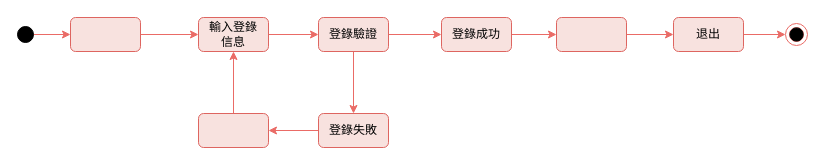
The diagram is 825 pixels wide and 165 high, and some of its shapes have lost their labels. The box of each missing label's shape, as (x1, y1, x2, y2) in pixels:
各自進行 操作: (556, 16, 626, 52)
提供錯誤 信息: (198, 112, 268, 148)
進入網站: (70, 16, 140, 52)
